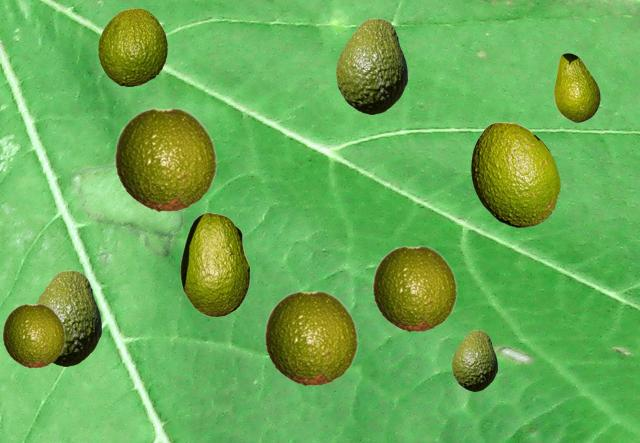avocado: (114, 107, 217, 211), (471, 122, 559, 226), (264, 290, 358, 385), (372, 245, 457, 331), (180, 212, 249, 316), (336, 18, 406, 113), (36, 270, 100, 365), (98, 8, 166, 85), (2, 303, 65, 367), (554, 53, 599, 121), (452, 330, 496, 390)
